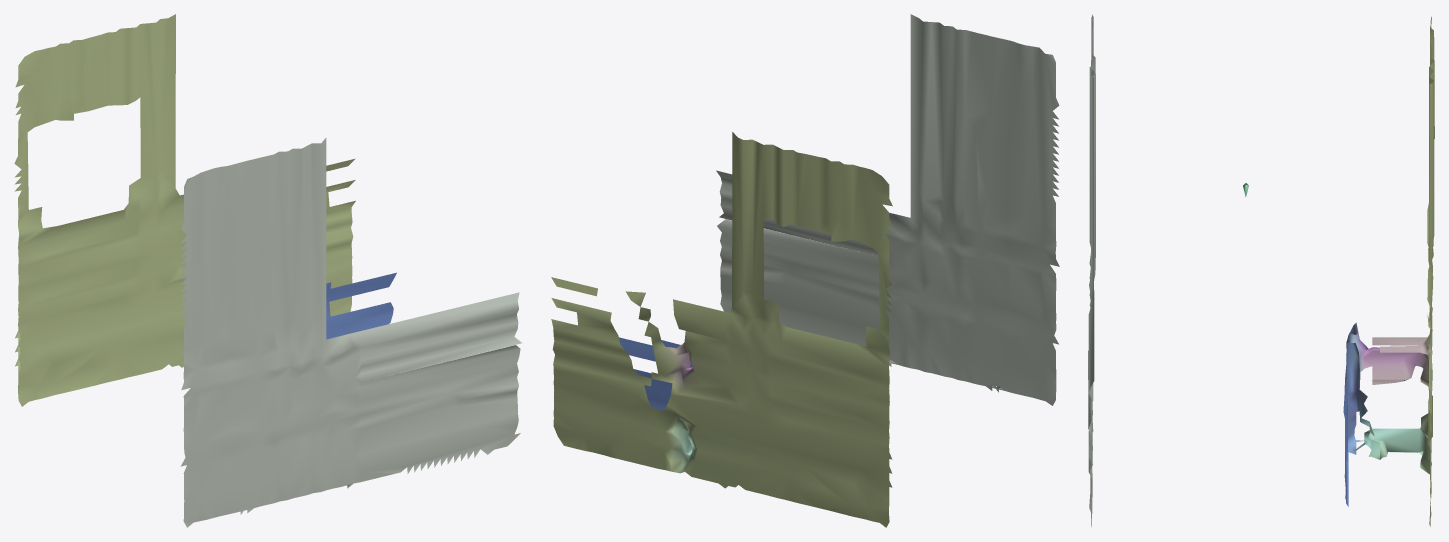
Rendered from tile_7e4ccbd5fe0e_0_0_0_0_lod2.glb.
3 renders of one model, left to right at view 1: azimuth 30°, elevation 25°; view 2: azimuth 150°, elevation 25°; view 3: azimuth 270°, elevation 25°, orthographic. The views are drawn at different scales.
Size of the model in its own units: 4.08 by 4.08 by 3.52.
